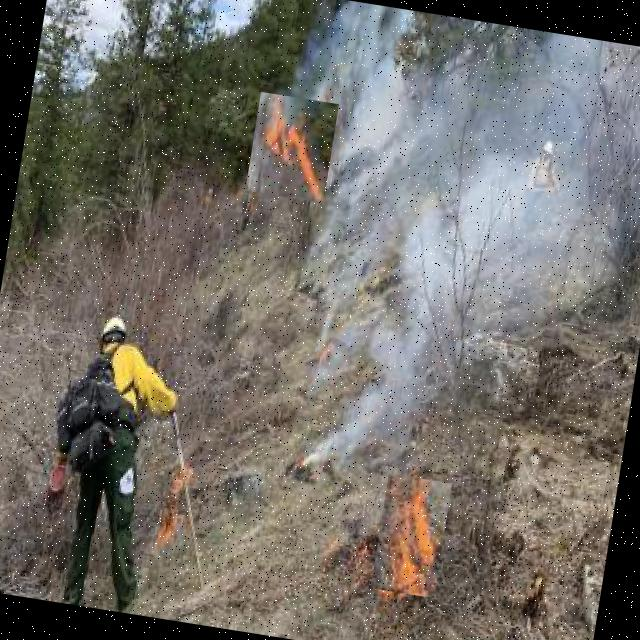fire: (245, 92, 339, 203), (371, 474, 452, 598)
